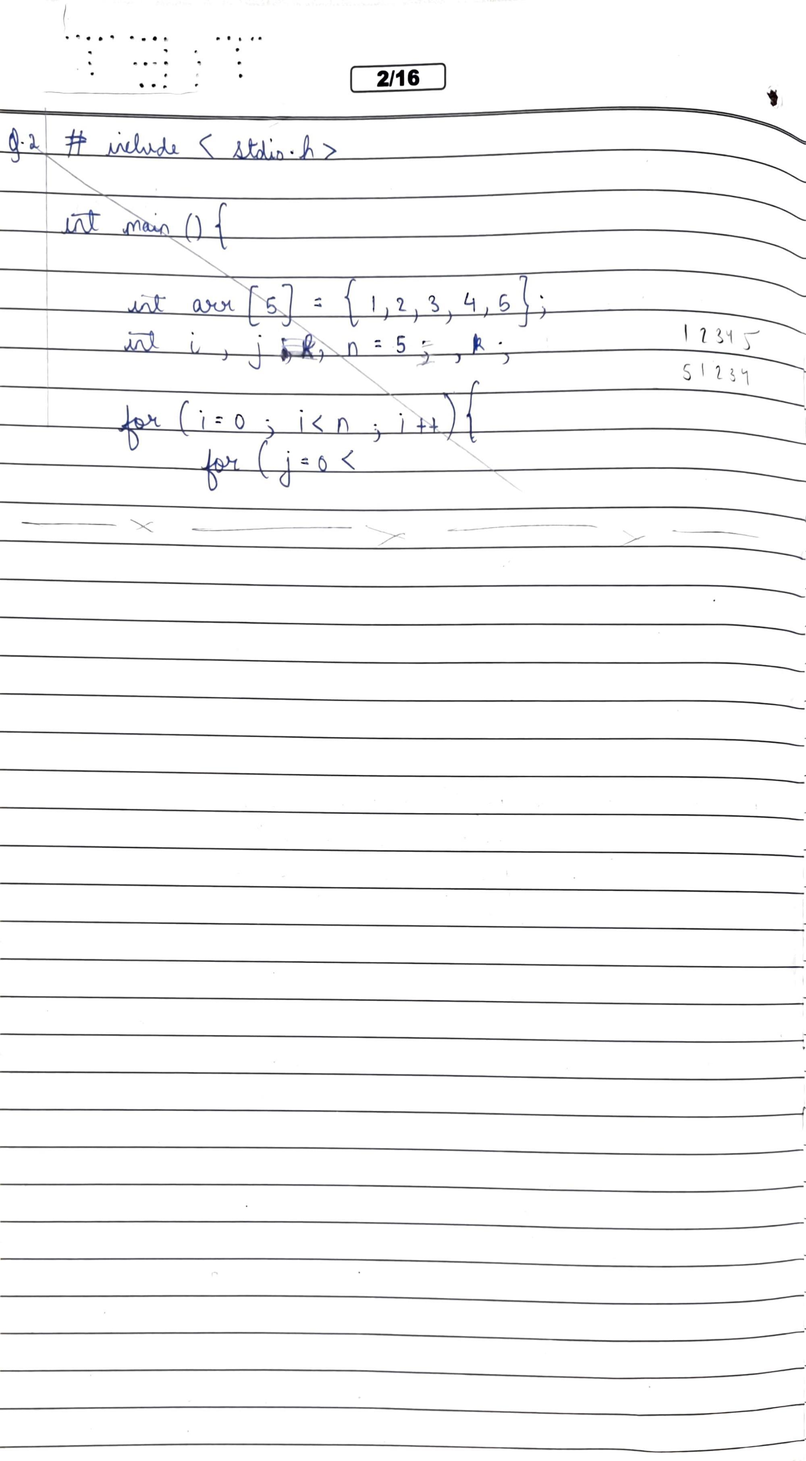cuttings: (4, 123, 550, 497)
